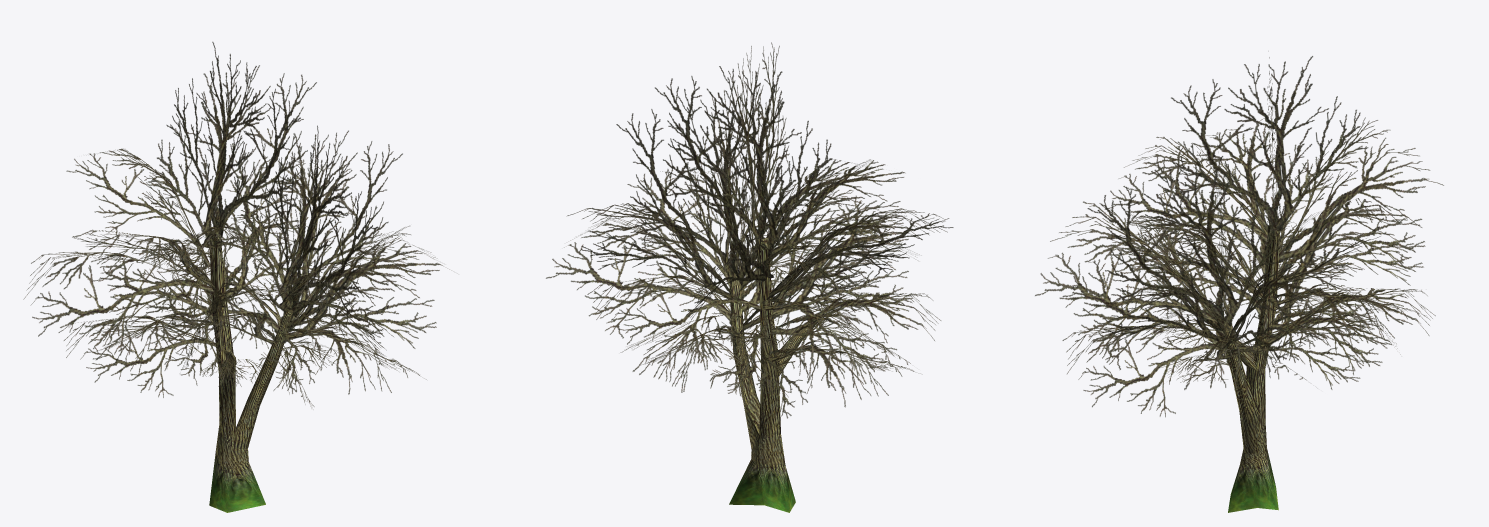
File: tree6_19.glb
3 renders of one model, left to right at view 1: azimuth 30°, elevation 25°; view 2: azimuth 150°, elevation 25°; view 3: azimuth 270°, elevation 25°, orthographic. The views are drawn at different scales.
Parts seen in each view (by area): view 1: tree6_19-col; view 2: tree6_19-col; view 3: tree6_19-col.
Boxes of the visible parts, box(x1,y1,x2,y2) form: tree6_19-col: box(23, 42, 451, 512); tree6_19-col: box(546, 42, 953, 512); tree6_19-col: box(1035, 56, 1443, 512).
Bounding box in the file's own units: 10.78 × 11.69 × 10.65.
Materials: 3 (3 with a texture image).
